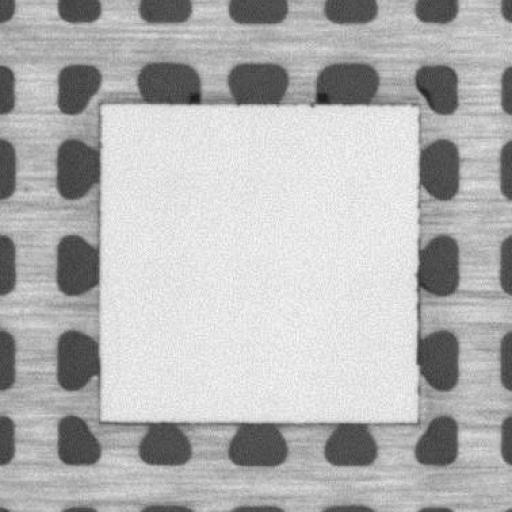DIE_CRACK: (99, 280, 123, 408)
